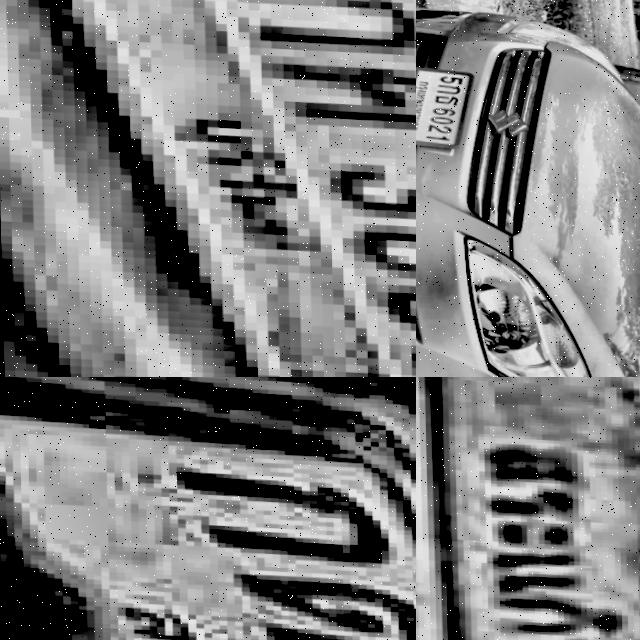license-plate: (12, 0, 416, 377), (0, 377, 416, 640), (416, 377, 640, 640), (416, 57, 482, 153)
